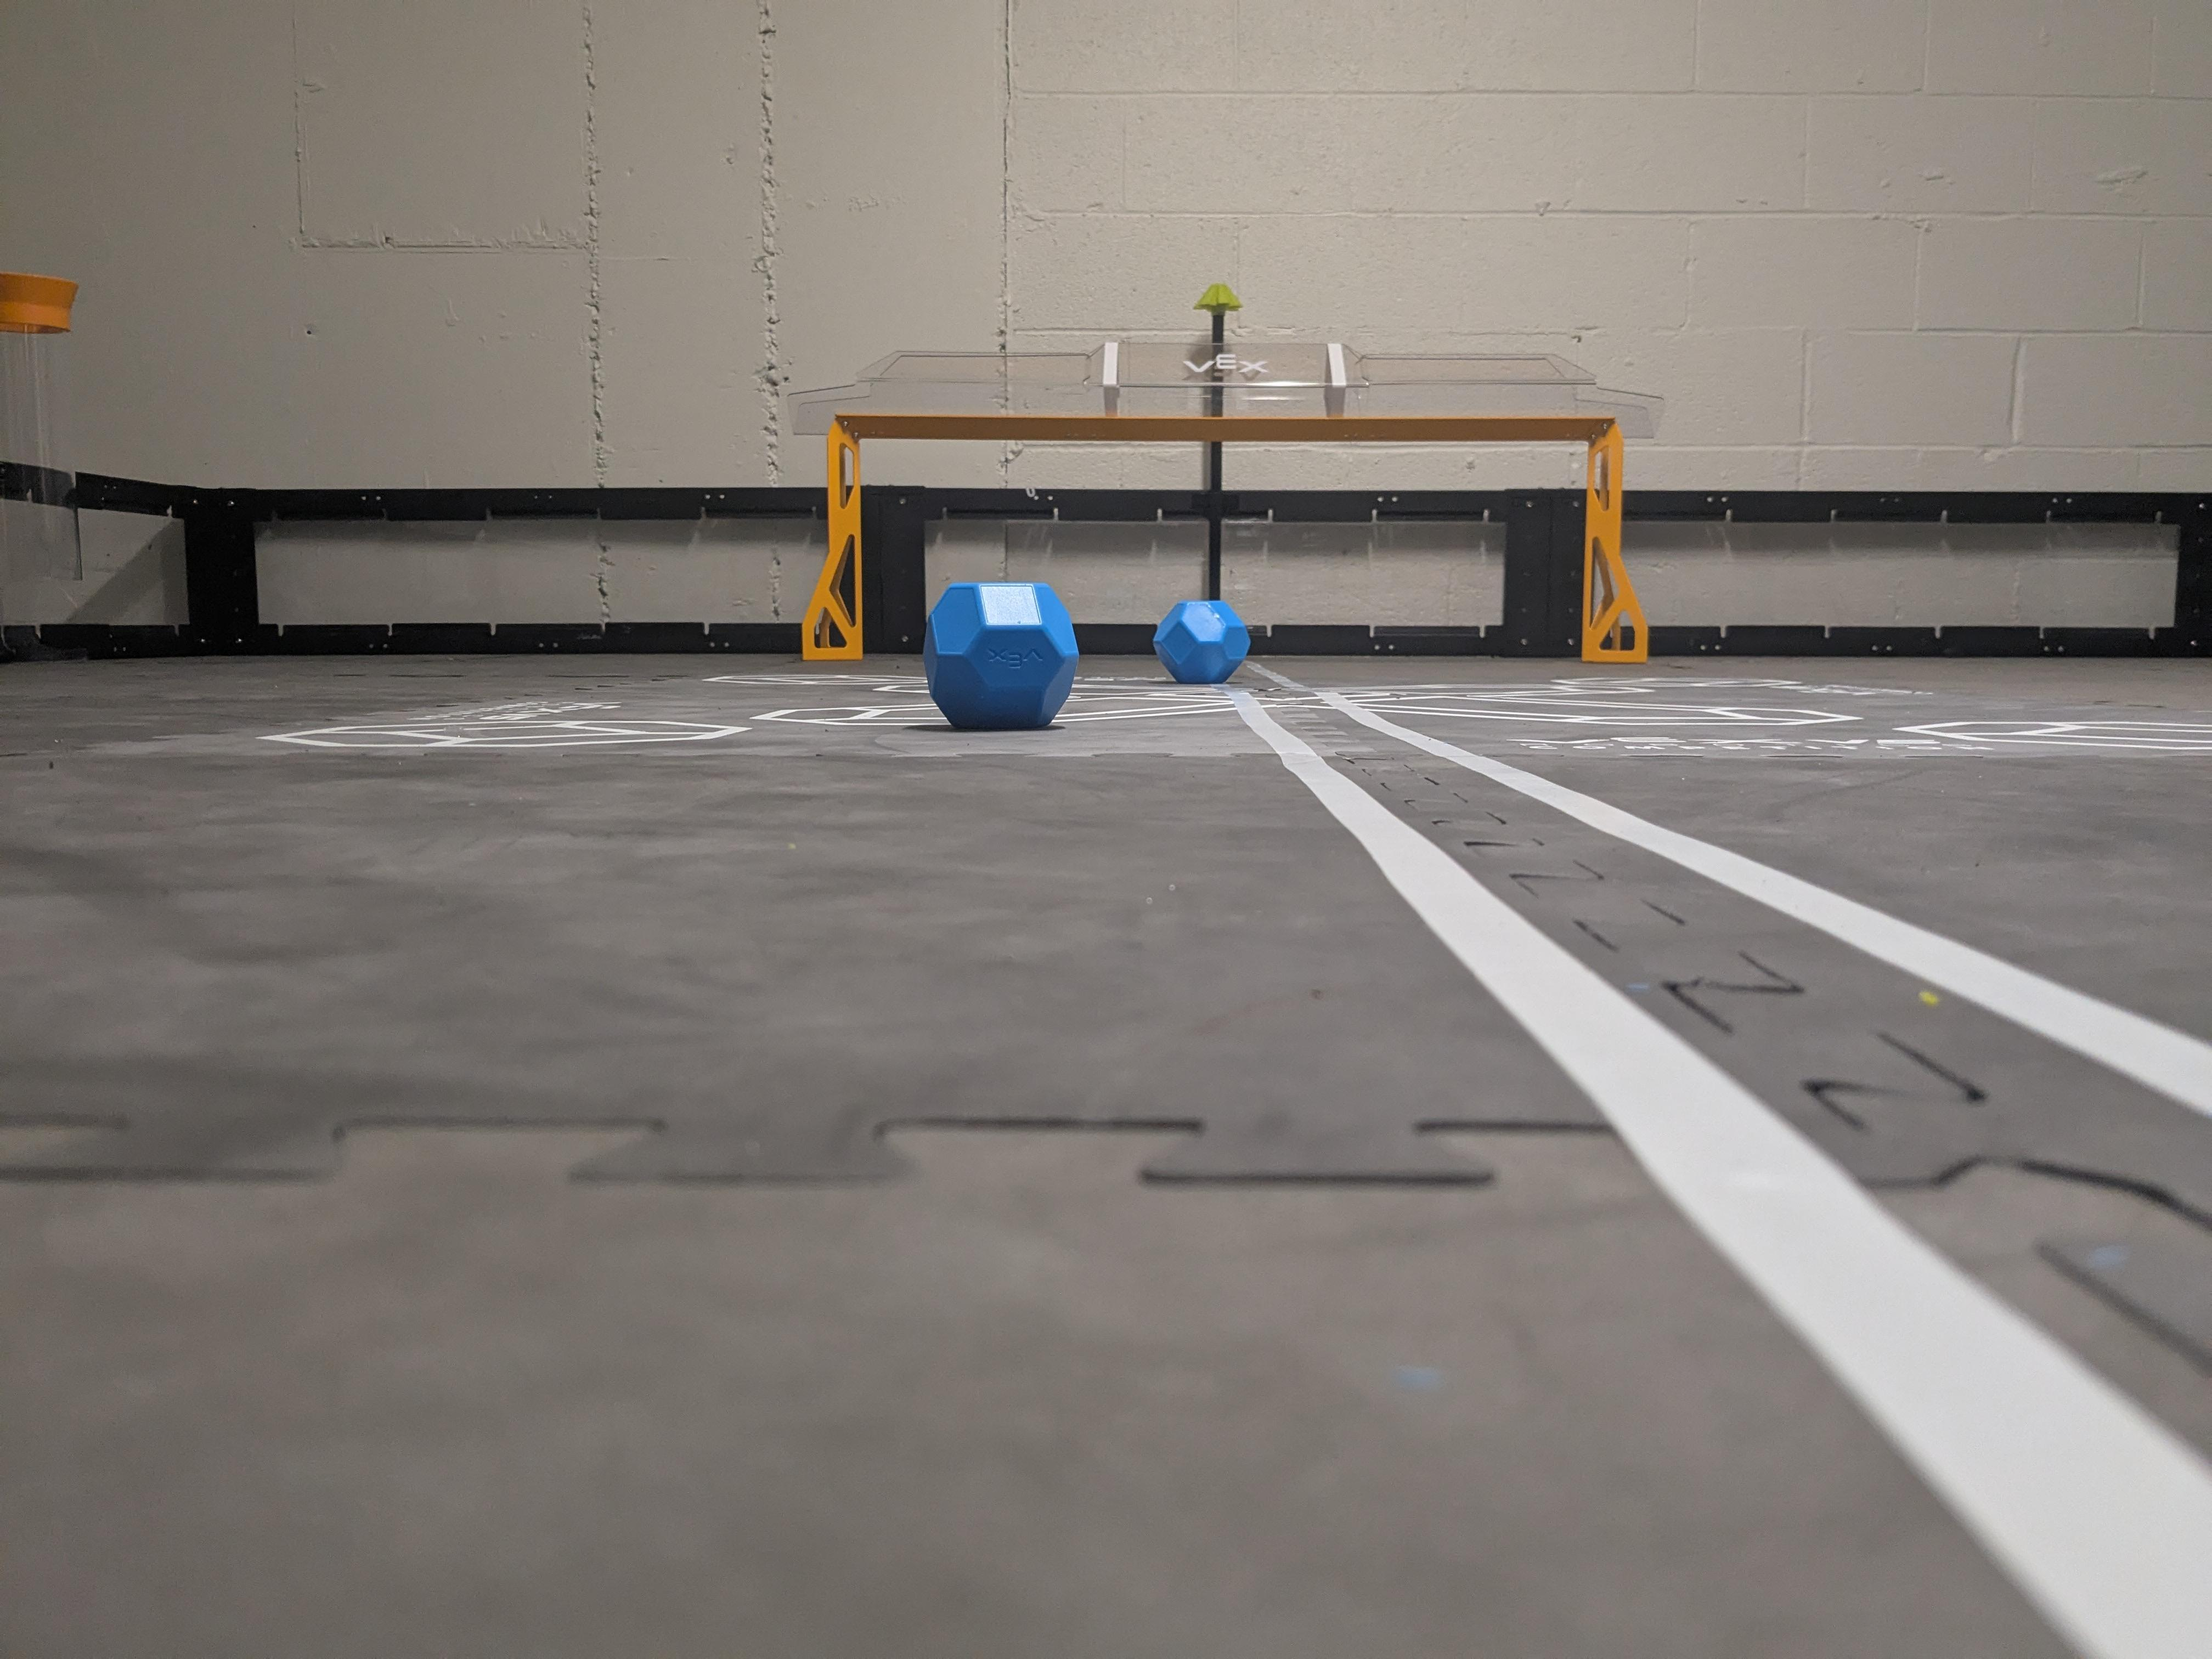Vex-Pieces-BLUE: (921, 580, 1075, 725), (1155, 601, 1251, 681)
